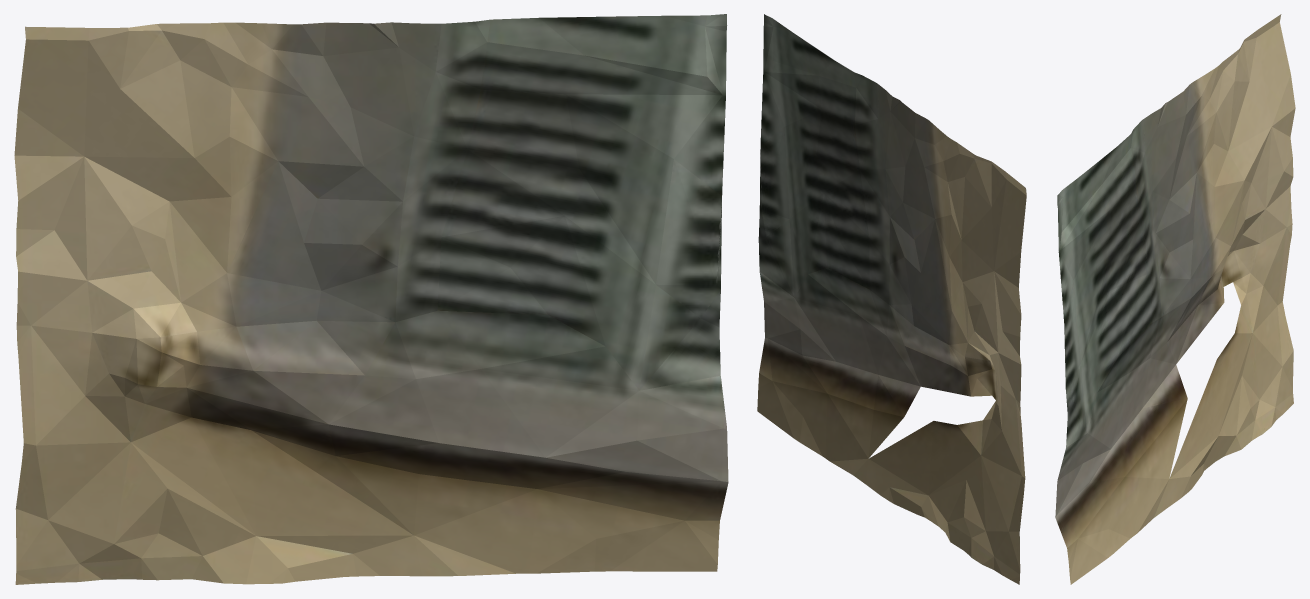
3 renders of one model, left to right at view 1: azimuth 30°, elevation 25°; view 2: azimuth 150°, elevation 25°; view 3: azimuth 270°, elevation 25°, orthographic. The views are drawn at different scales.
Size of the model in its own units: 0.8374 by 0.8373 by 0.4682.
3 materials, 3 textured.
